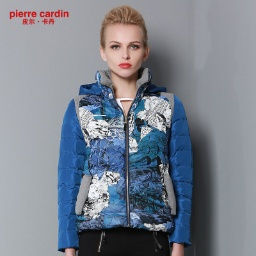face: (96, 2, 153, 81)
